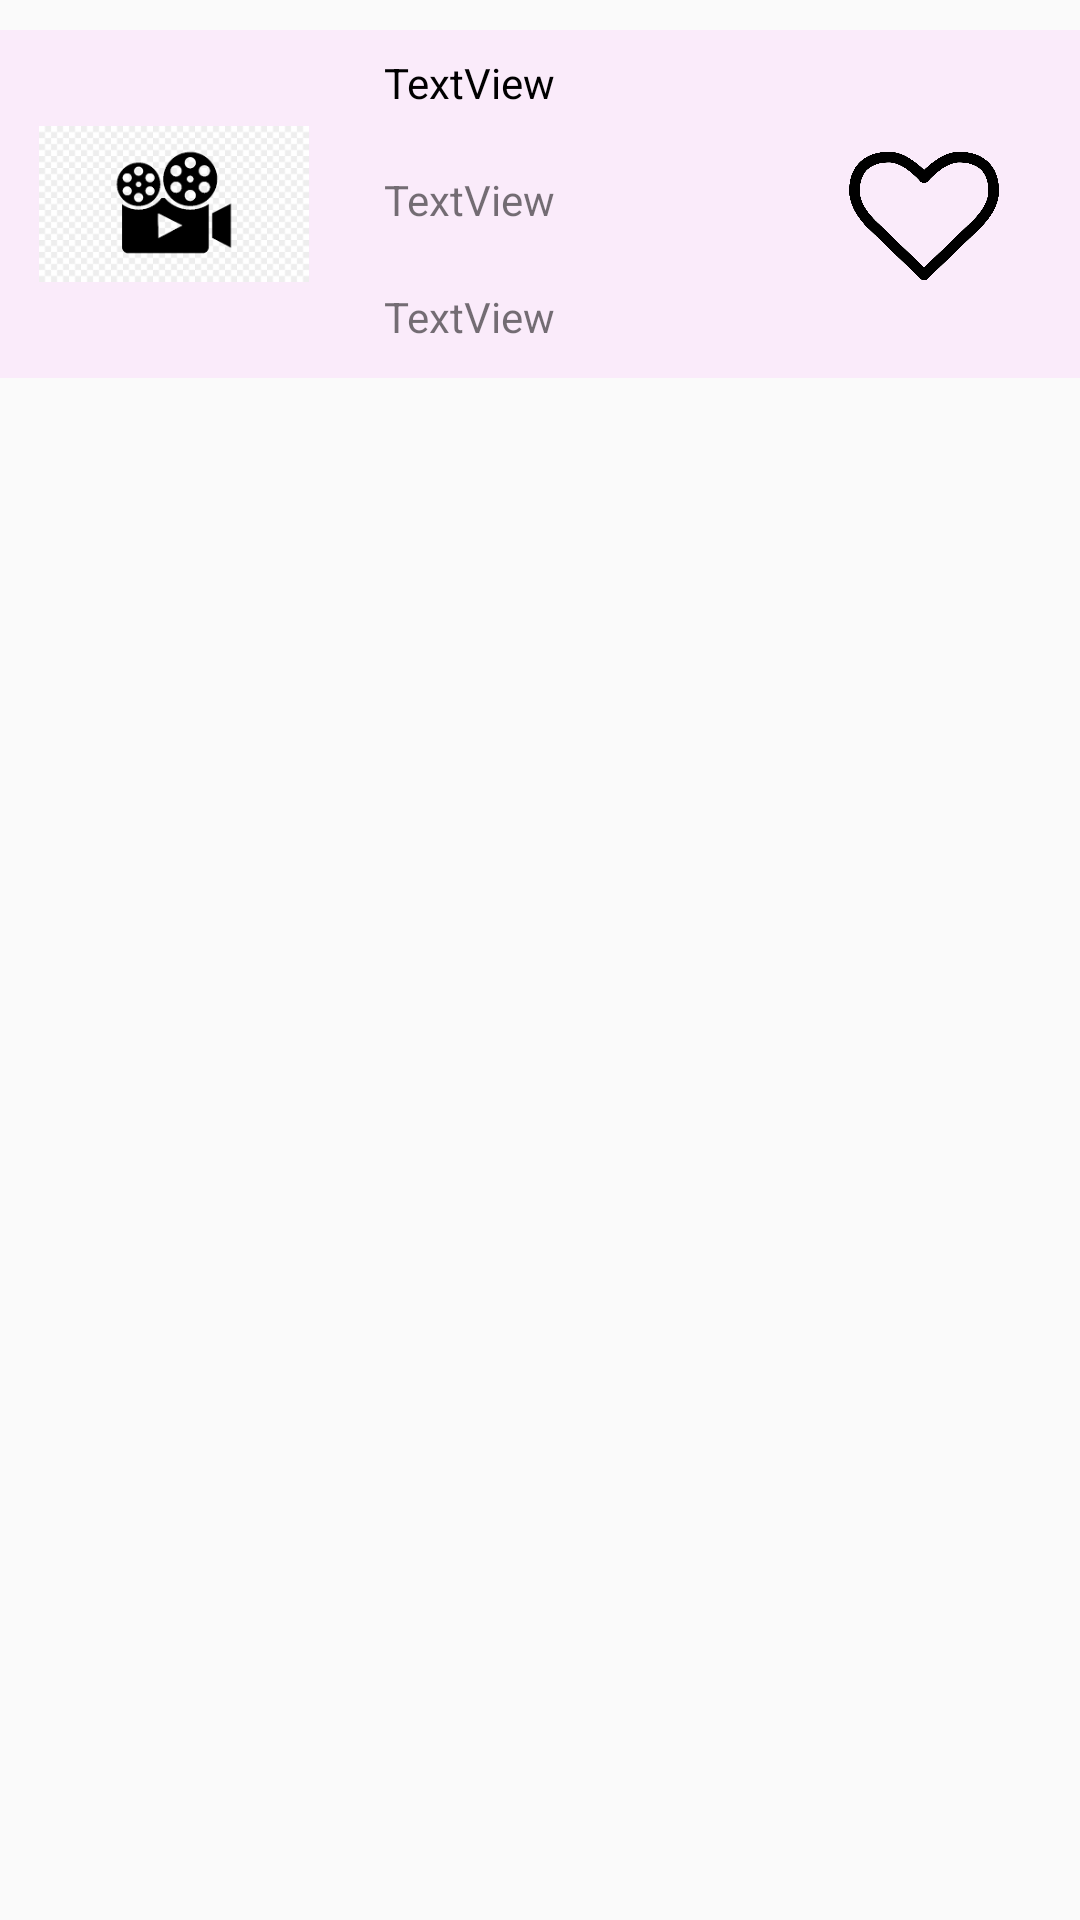

Locate icon controls on the screen. Image size 1080*1920, boxes as (x1, y1, x2, y2).
heart: (849, 152, 999, 280)
movie: (116, 151, 232, 254)
